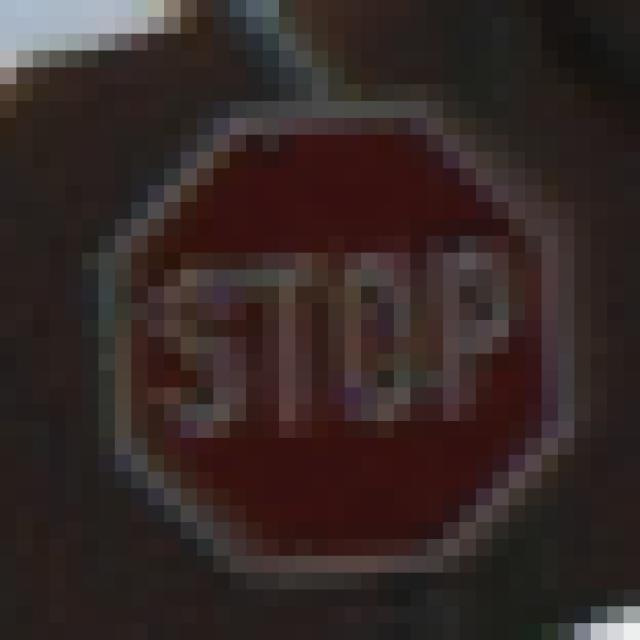STOP: (83, 85, 559, 557)
